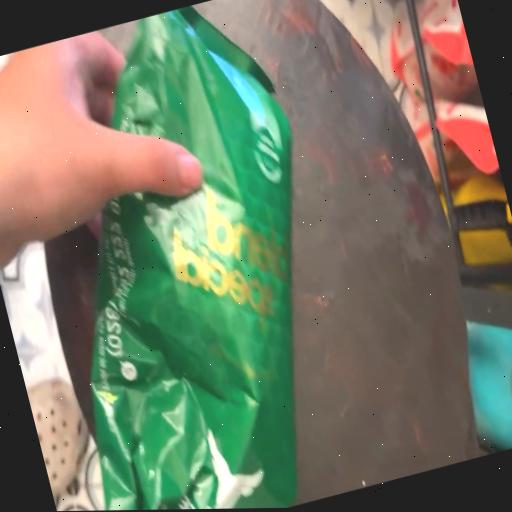cafe_xay: (86, 5, 296, 510)
